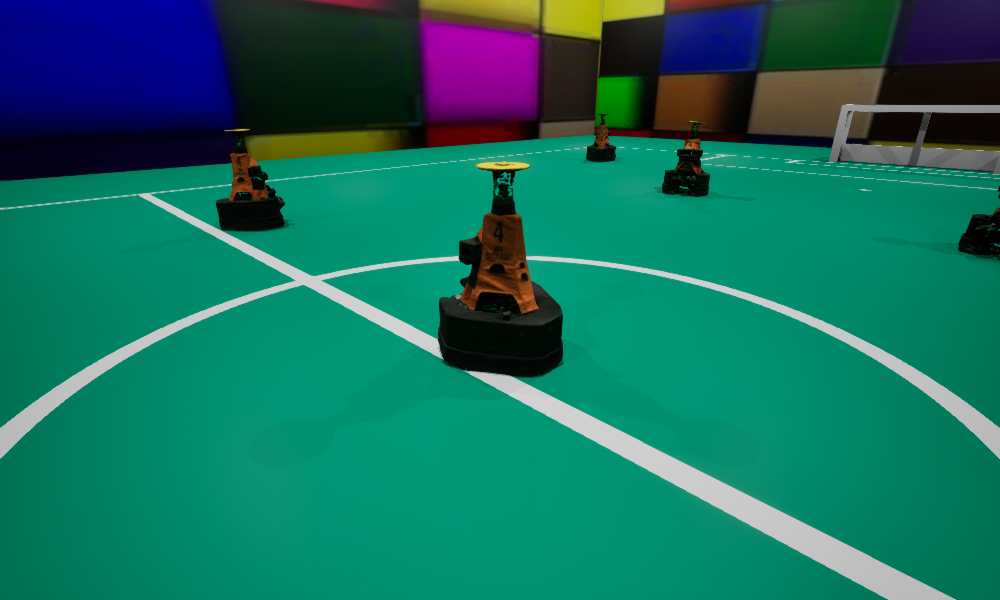o: (438, 161, 562, 376), (216, 129, 284, 230), (662, 121, 709, 195), (958, 186, 999, 255), (586, 114, 615, 161)
